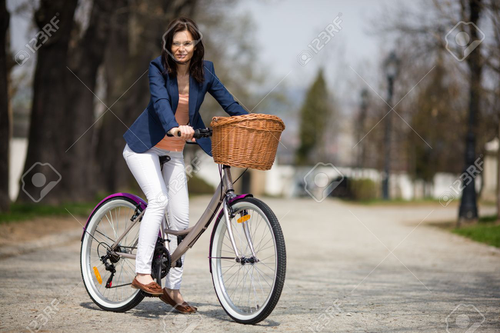bikerider: (64, 5, 296, 333)
